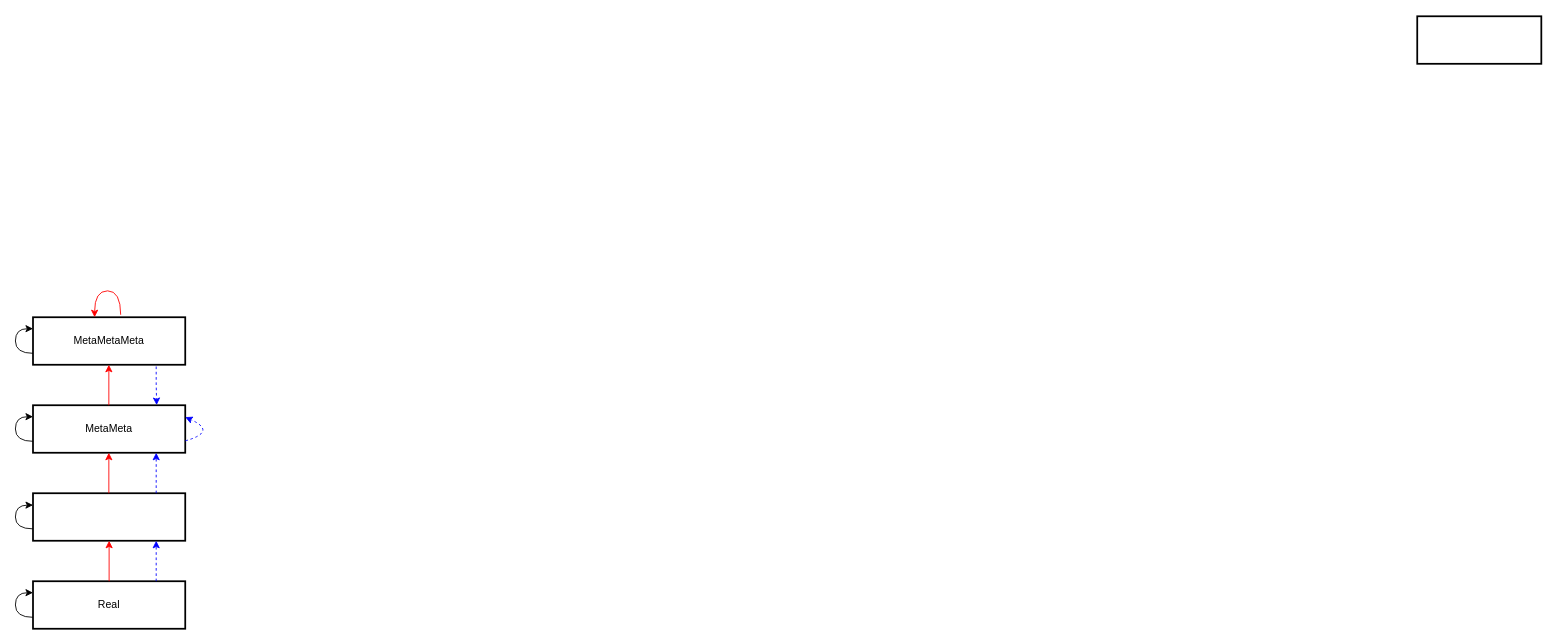
Some shapes in this 1558 by 644 pixel diagram are drawn without their labels. The centre of each missing label's shape, as x and y in pixels:
"Meta" goes at point 109,516.
"MetaLayers" goes at point 1479,39.
